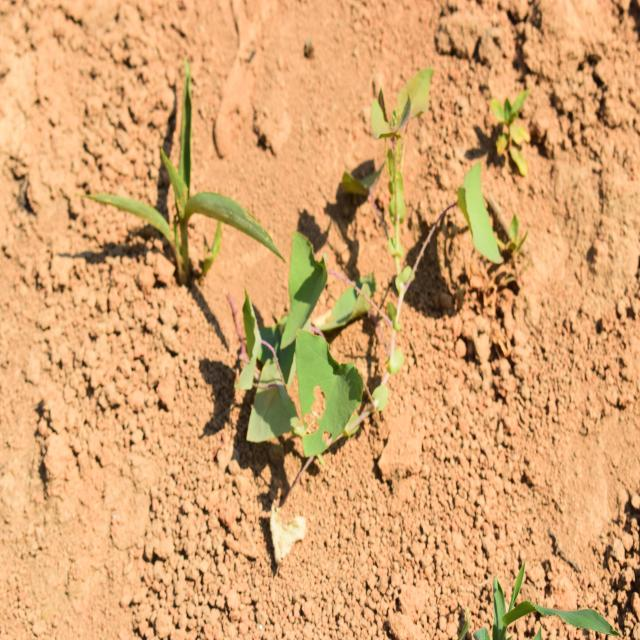Asiatic_Smartweed: (228, 236, 403, 455), (334, 82, 508, 270)
